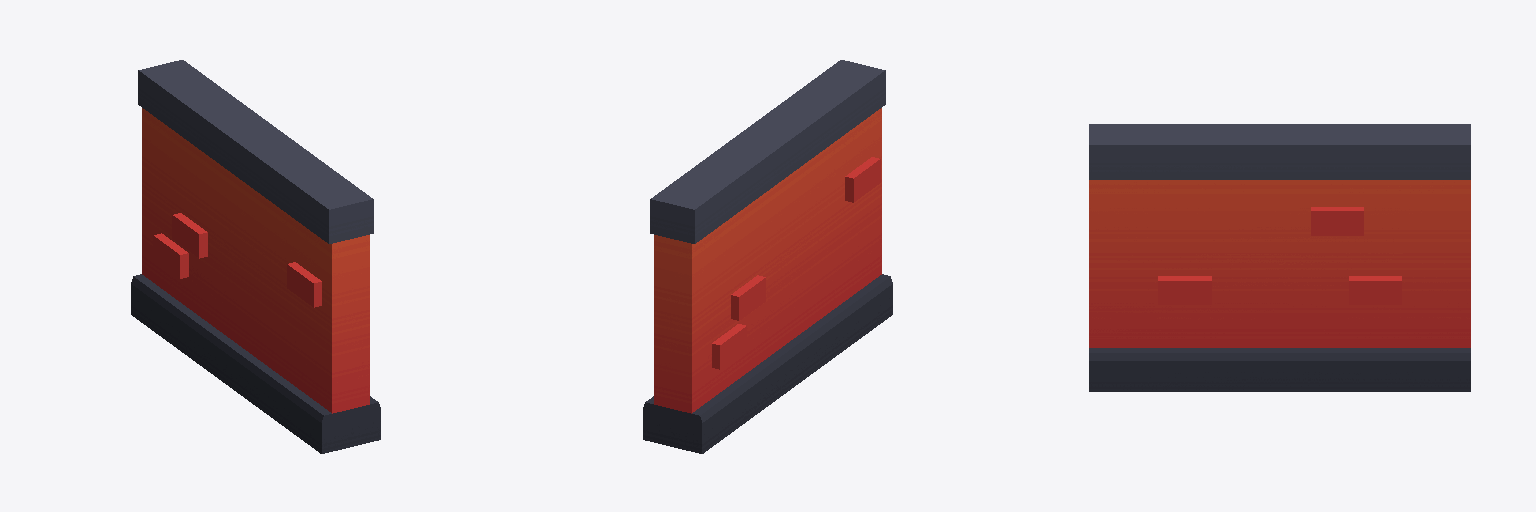
3 renders of one model, left to right at view 1: azimuth 30°, elevation 25°; view 2: azimuth 150°, elevation 25°; view 3: azimuth 270°, elevation 25°, orthographic.
Parts seen in each view (by area): view 1: brick-wall.006; view 2: brick-wall.006; view 3: brick-wall.006.
Part boxes in pixels (x1,y1,x2,y2): brick-wall.006: (131,60,380,453); brick-wall.006: (643,60,892,453); brick-wall.006: (1089,124,1470,391).
Bounding box in the file's own units: 0.441 × 1.72 × 2.45.
1 materials, 1 textured.